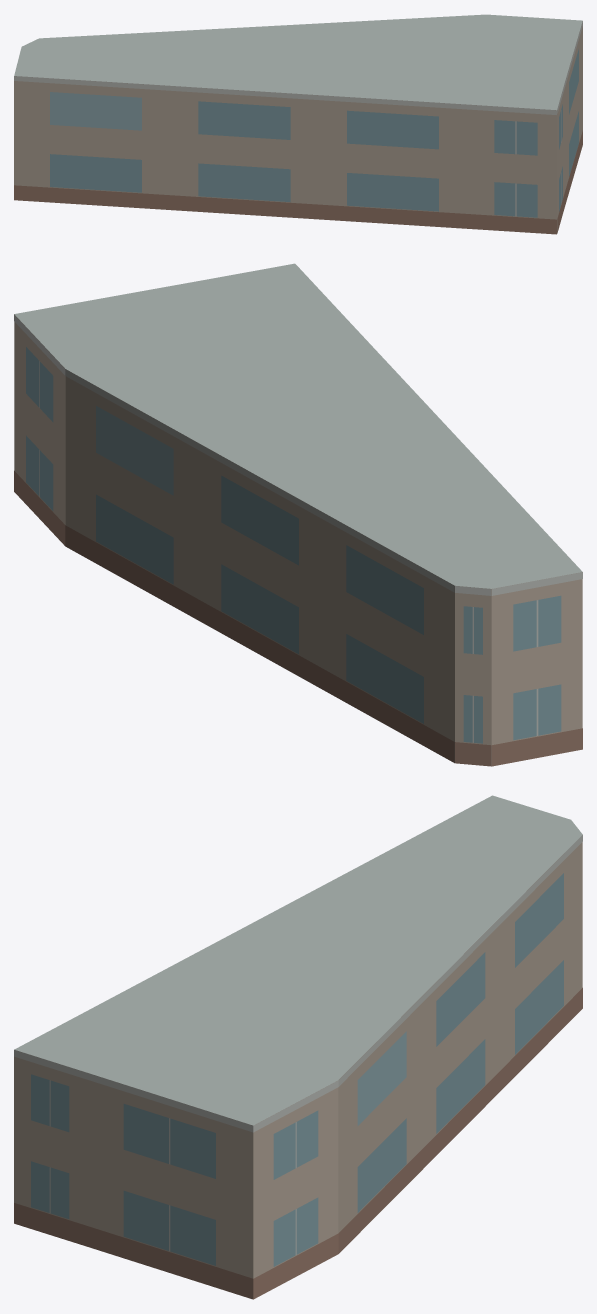
Rendered from survey-upis-32884420.glb.
The picture shows the model from 3 angles, top to bottom: view 1: azimuth 30°, elevation 25°; view 2: azimuth 150°, elevation 25°; view 3: azimuth 270°, elevation 25°; orthographic projection. The views are drawn at different scales.
Visible parts, largest first — view 1: survey-upis-32884420.tmp; view 2: survey-upis-32884420.tmp; view 3: survey-upis-32884420.tmp.
Boxes of the visible parts, x1,y1,x2,y2 form: survey-upis-32884420.tmp: (14,14,582,234); survey-upis-32884420.tmp: (14,263,582,766); survey-upis-32884420.tmp: (14,795,582,1299).
Bounding box in the file's own units: 24.85 × 6.1 × 18.09.
